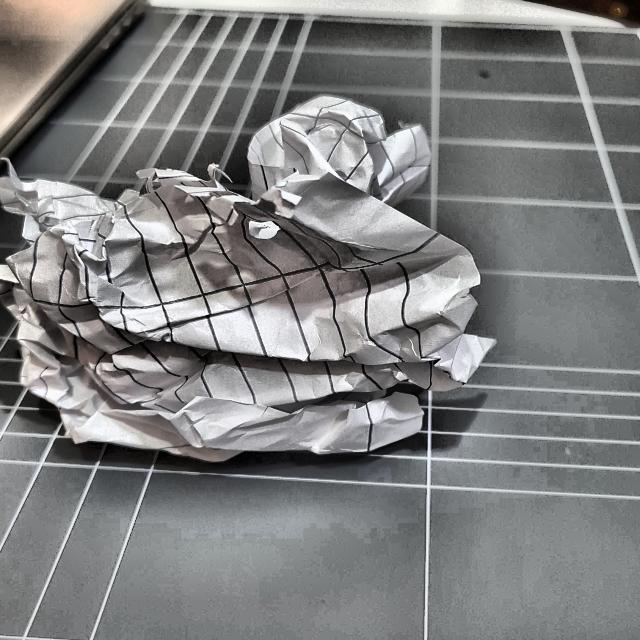paper: (0, 109, 503, 468)
